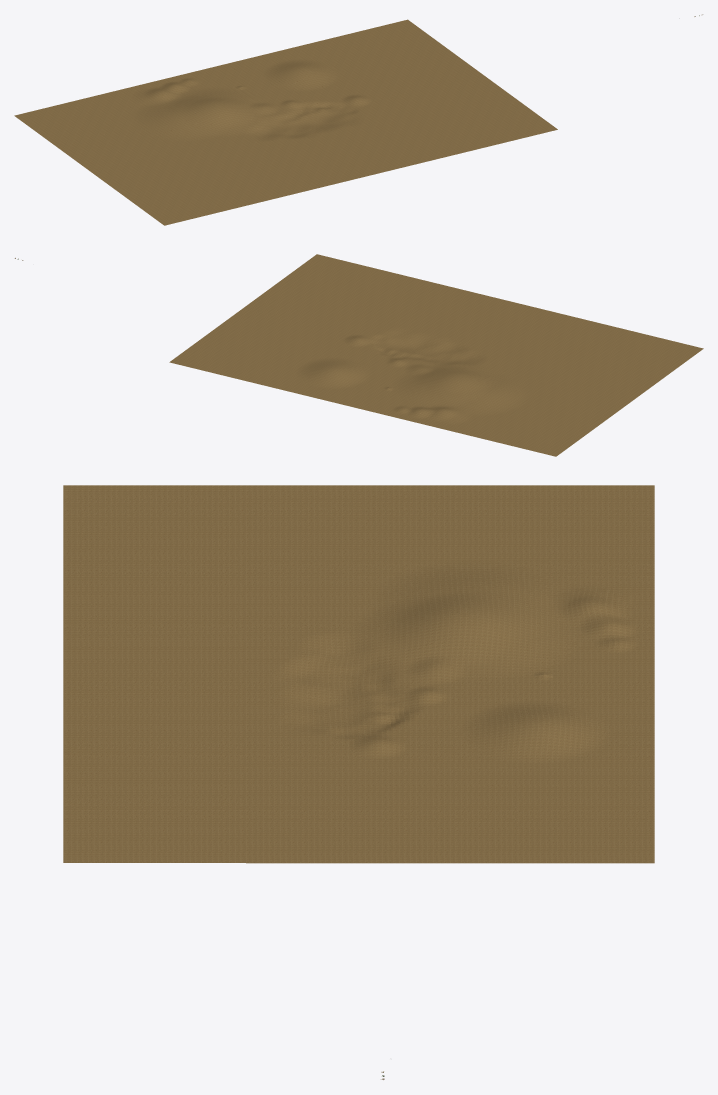
Rendered from Ground.glb.
3 renders of one model, top to bottom at view 1: azimuth 30°, elevation 25°; view 2: azimuth 150°, elevation 25°; view 3: azimuth 270°, elevation 25°, orthographic. The views are drawn at different scales.
Visible parts, largest first — view 1: ground.002; view 2: ground.002; view 3: ground.002.
Boxes of the visible parts, bbox=[...] form: ground.002: bbox=[14, 19, 557, 225]; ground.002: bbox=[169, 254, 703, 456]; ground.002: bbox=[63, 485, 654, 863].
Bounding box in the file's own units: 199 × 3.21 × 83.7.
5 materials, 4 textured.
